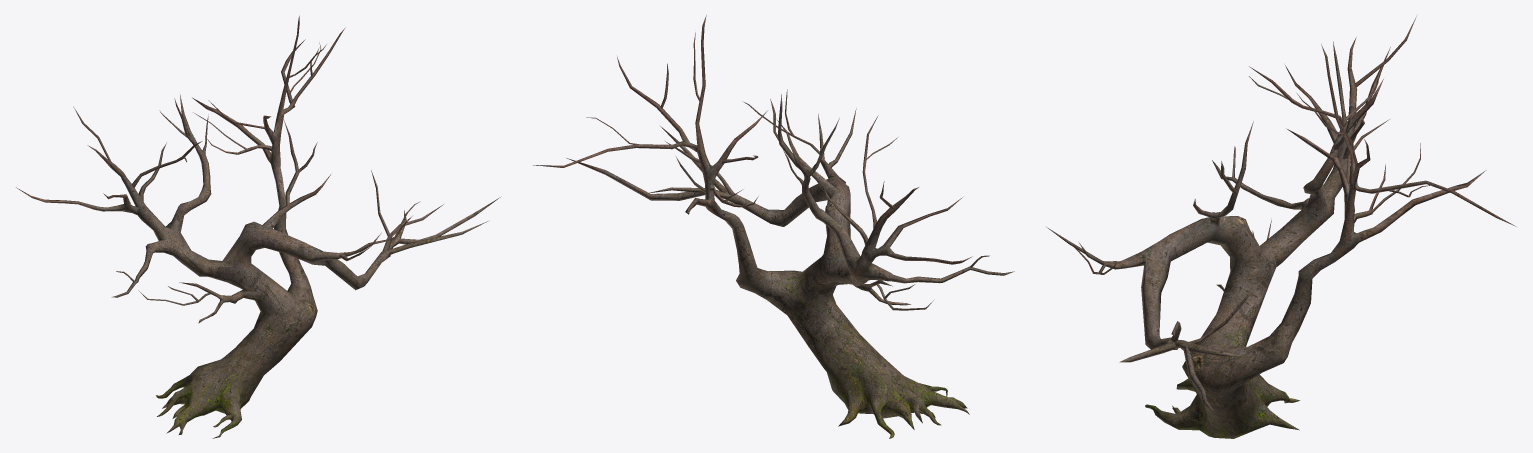
File: p_com_taoshugan01_01.FBX
3 views of the same model, side by side, from view 1: azimuth 30°, elevation 25°; view 2: azimuth 150°, elevation 25°; view 3: azimuth 270°, elevation 25° (orthographic). The views are drawn at different scales.
Visible parts, largest first — view 1: p_com_taoshugan01_01; view 2: p_com_taoshugan01_01; view 3: p_com_taoshugan01_01.
Part boxes in pixels (left/top/right/bottom): p_com_taoshugan01_01: left=16, top=15, right=500, bottom=438; p_com_taoshugan01_01: left=533, top=15, right=1014, bottom=438; p_com_taoshugan01_01: left=1046, top=16, right=1516, bottom=438.
Bounding box in the file's own units: 13.38 × 10.43 × 9.64.
